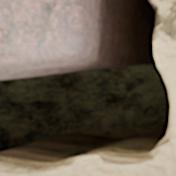brick: (0, 0, 86, 69)
crack: (0, 0, 175, 175)
